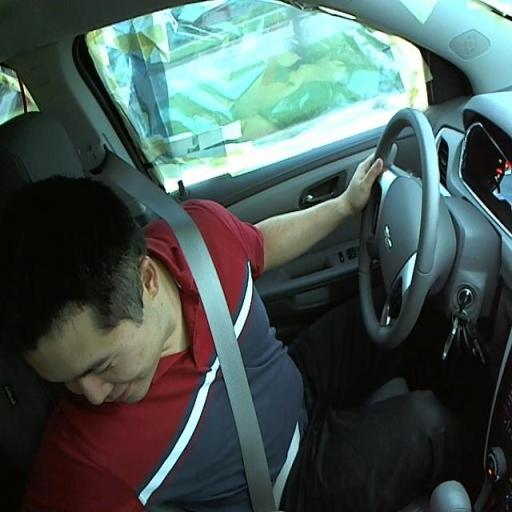turning: (3, 120, 441, 470)
